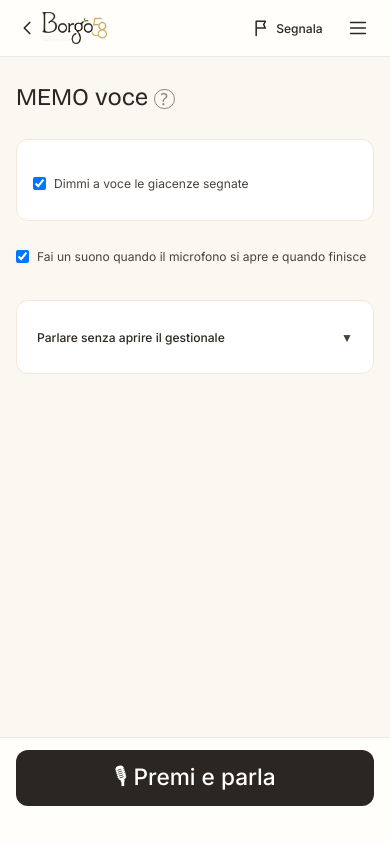
it: 🔴 a microfono acceso il menu non butta via quello che si è detto › il logo, «Lascia perdere e vai»: spegne senza mandare e porta alla Dashboard
The width and height of the screenshot is (390, 844).
Click the button "🎙 Premi e parla".
click(195, 778)  # box x1=16 y1=750 x2=374 y2=806
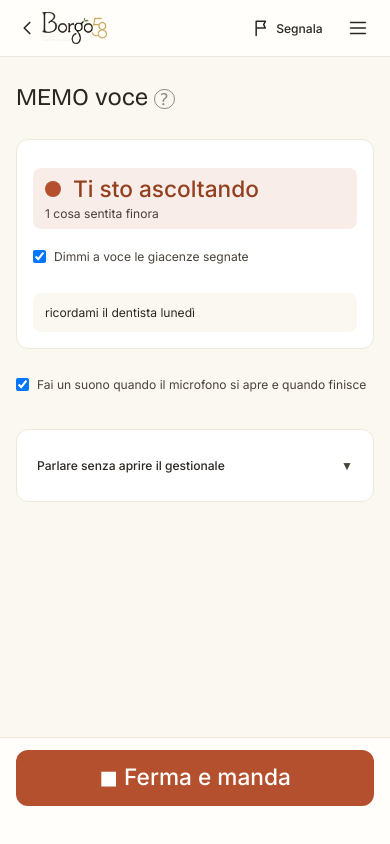
Click the link named "Torna alla schermata iniziale".
click(66, 28)  # box x1=16 y1=12 x2=115 y2=44
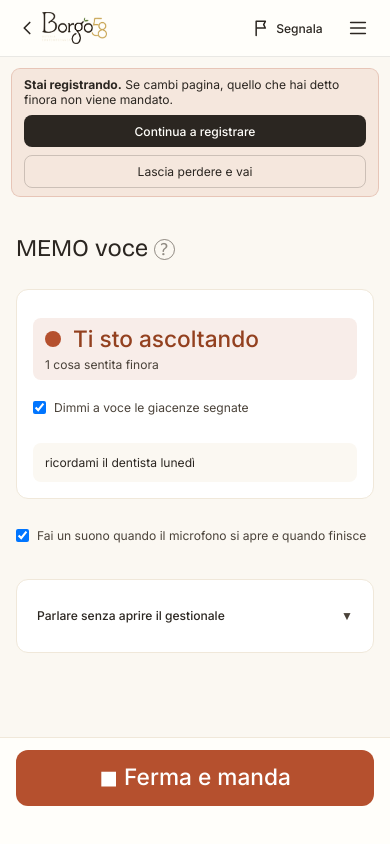
Click the button "Lascia perdere e vai".
click(195, 172)  # box x1=24 y1=156 x2=366 y2=188
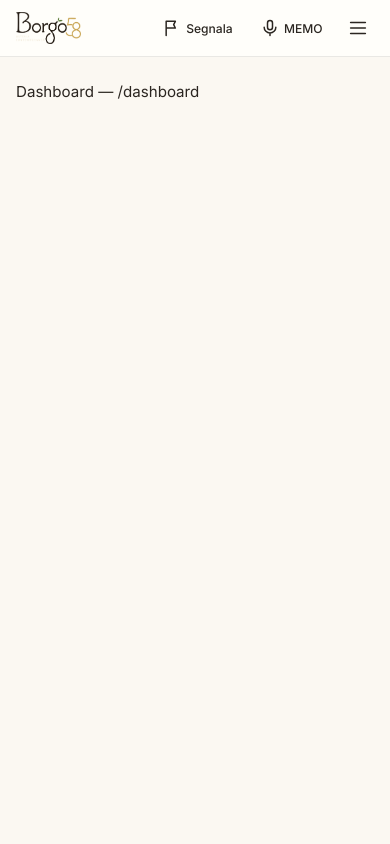
Expected: the text "Dashboard — /dashboard" is shown, x1=16 y1=82 x2=199 y2=101
